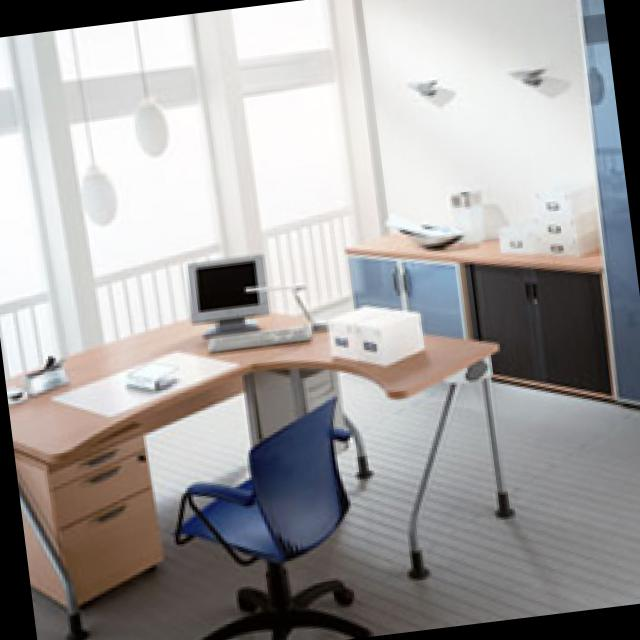2001: (50, 14, 215, 277), (229, 0, 354, 229), (0, 38, 49, 303)
book case: (122, 359, 178, 388)
boxes: (495, 176, 598, 250), (327, 302, 421, 363)
cabinet door: (341, 224, 609, 398), (572, 0, 640, 406)
ceiling lamps: (63, 28, 114, 223), (127, 20, 165, 155)
chair -occluded-: (173, 394, 368, 640)
computer crop: (240, 366, 335, 444)
decorative bowl: (386, 217, 460, 248)
desk calendar: (5, 303, 510, 572)
desk occluded: (45, 346, 234, 417)
file organizer: (14, 433, 161, 613)
jar -X: (443, 188, 481, 241)
keyboard crop: (203, 322, 305, 350)
lamp crop: (240, 279, 326, 329), (503, 66, 543, 85), (401, 76, 440, 95)
monitor crop: (187, 252, 263, 332)
stapler: (19, 349, 64, 392)
